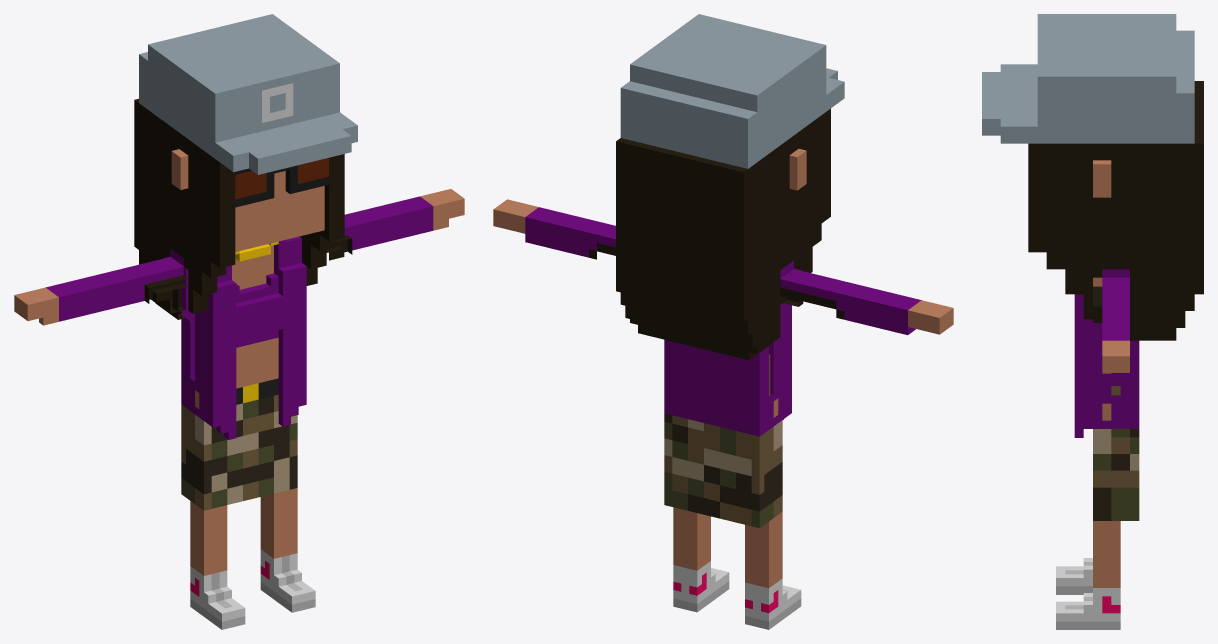
Rendered from 0888-tposefbx.fbx.
The picture shows the model from 3 angles, left to right: view 1: azimuth 30°, elevation 25°; view 2: azimuth 150°, elevation 25°; view 3: azimuth 270°, elevation 25°; orthographic projection. The views are drawn at different scales.
Visible parts, largest first — view 1: Cube.002; view 2: Cube.002; view 3: Cube.002.
Part boxes in pixels (bbox=[...]): Cube.002: bbox=[14, 14, 464, 629]; Cube.002: bbox=[493, 14, 953, 629]; Cube.002: bbox=[982, 14, 1203, 629].
Bounding box in the file's own units: 247 × 295 × 106.
